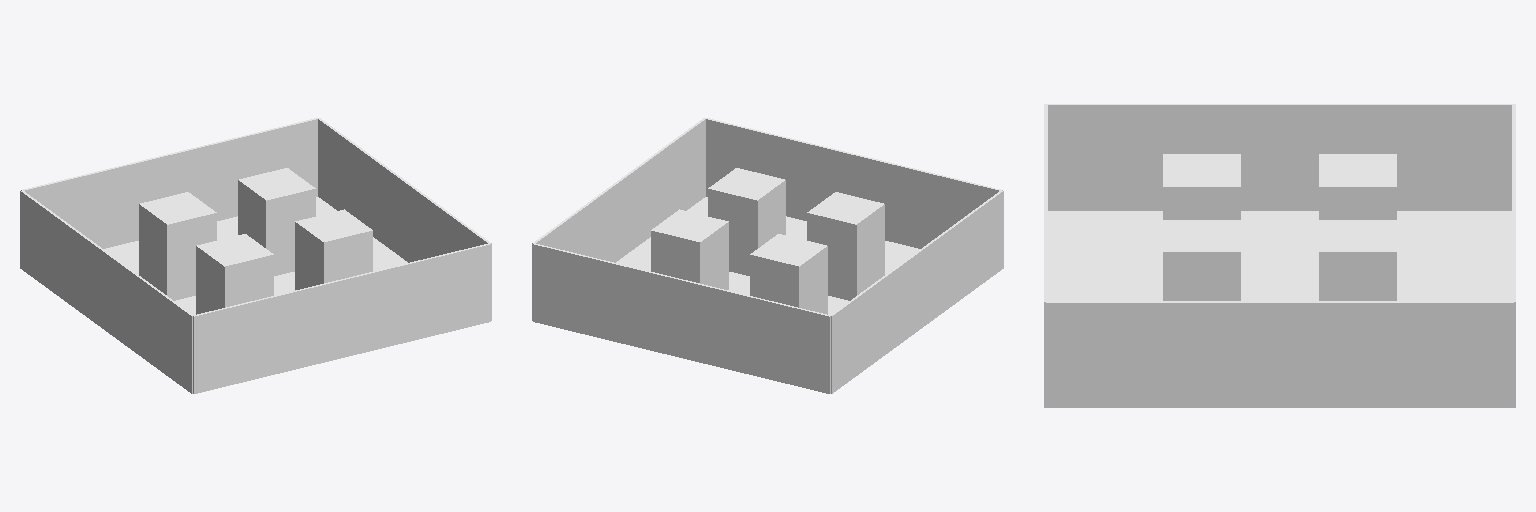
The robot description file, URDF, robot "room12x12":
<?xml version="1.0"?>
<robot name="room12x12">
  <link name="floor_link">
    <visual>
      <geometry>
        <mesh filename="floor.obj" scale="1 1 1"/>
      </geometry>
      <origin xyz="0 0 -0.005" rpy="0 0 0"/>
      <material name="white"/>
    </visual>
    <collision>
      <geometry>
        <box size="12 12 0.01"/>
      </geometry>
      <origin xyz="0 0 -0.005" rpy="0 0 0"/>
    </collision>
    <inertial>
      <mass value="3888"/>
      <inertia ixx="46656.0324" ixy="0" ixz="0" iyy="46656.0324" iyz="0" izz="93312"/>
      <origin xyz="0 0 -0.005" rpy="0 0 0"/>
    </inertial>
    <contact>
      <lateral_friction value="1"/>
    </contact>
  </link>
  <material name="blue">
    <color rgba="0 0 0.8 1"/>
  </material>
  <material name="black">
    <color rgba="0 0 0 1"/>
  </material>
  <material name="white">
    <color rgba="1 1 1 1"/>
  </material>
  <link name="north_link">
    <visual>
      <geometry>
        <mesh filename="wall12.obj" scale="1 1 1"/>
      </geometry>
      <origin xyz="0 0 1.5" rpy="0 0 0"/>
      <material name="white"/>
    </visual>
    <collision>
      <geometry>
        <box size="12 0.01 3"/>
      </geometry>
      <origin xyz="0 0 1.5" rpy="0 0 0"/>
    </collision>
    <inertial>
      <mass value="972"/>
      <inertia ixx="729.0081" ixy="0" ixz="0" iyy="12393" iyz="0" izz="11664.0081"/>
      <origin xyz="0 0 1.5" rpy="0 0 0"/>
    </inertial>
  </link>
  <joint name="north_joint" type="fixed">
    <parent link="floor_link"/>
    <child link="north_link"/>
    <origin xyz="0 6 0" rpy="0 0 0"/>
  </joint>
  <link name="east_link">
    <visual>
      <geometry>
        <mesh filename="wall12.obj" scale="1 1 1"/>
      </geometry>
      <origin xyz="0 0 1.5" rpy="0 0 1.570796327"/>
      <material name="white"/>
    </visual>
    <collision>
      <geometry>
        <box size="12 0.01 3"/>
      </geometry>
      <origin xyz="0 0 1.5" rpy="0 0 1.570796327"/>
    </collision>
    <inertial>
      <mass value="972"/>
      <inertia ixx="729.0081" ixy="0" ixz="0" iyy="12393" iyz="0" izz="11664.0081"/>
      <origin xyz="0 0 1.5" rpy="0 0 1.570796327"/>
    </inertial>
  </link>
  <joint name="east_joint" type="fixed">
    <parent link="floor_link"/>
    <child link="east_link"/>
    <origin xyz="6 0 0" rpy="0 0 0"/>
  </joint>
  <link name="south_link">
    <visual>
      <geometry>
        <mesh filename="wall12.obj" scale="1 1 1"/>
      </geometry>
      <origin xyz="0 0 1.5" rpy="0 0 0"/>
      <material name="white"/>
    </visual>
    <collision>
      <geometry>
        <box size="12 0.01 3"/>
      </geometry>
      <origin xyz="0 0 1.5" rpy="0 0 0"/>
    </collision>
    <inertial>
      <mass value="972"/>
      <inertia ixx="729.0081" ixy="0" ixz="0" iyy="12393" iyz="0" izz="11664.0081"/>
      <origin xyz="0 0 1.5" rpy="0 0 0"/>
    </inertial>
  </link>
  <joint name="south_joint" type="fixed">
    <parent link="floor_link"/>
    <child link="south_link"/>
    <origin xyz="0 -6 0" rpy="0 0 0"/>
  </joint>
  <link name="west_link">
    <visual>
      <geometry>
        <mesh filename="wall12.obj" scale="1 1 1"/>
      </geometry>
      <origin xyz="0 0 1.5" rpy="0 0 1.570796327"/>
      <material name="white"/>
    </visual>
    <collision>
      <geometry>
        <box size="12 0.01 3"/>
      </geometry>
      <origin xyz="0 0 1.5" rpy="0 0 1.570796327"/>
    </collision>
    <inertial>
      <mass value="972"/>
      <inertia ixx="729.0081" ixy="0" ixz="0" iyy="12393" iyz="0" izz="11664.0081"/>
      <origin xyz="0 0 1.5" rpy="0 0 1.570796327"/>
    </inertial>
  </link>
  <joint name="west_joint" type="fixed">
    <parent link="floor_link"/>
    <child link="west_link"/>
    <origin xyz="-6 0 0" rpy="0 0 0"/>
  </joint>
  <link name="ne_col_link">
    <visual>
      <geometry>
        <mesh filename="wall2.obj" scale="1 1 1"/>
      </geometry>
      <origin xyz="0 0 1.5" rpy="0 0 0"/>
      <material name="white"/>
    </visual>
    <collision>
      <geometry>
        <box size="2 2 3"/>
      </geometry>
      <origin xyz="0 0 1.5" rpy="0 0 0"/>
    </collision>
    <inertial>
      <mass value="32400"/>
      <inertia ixx="35100" ixy="0" ixz="0" iyy="35100" iyz="0" izz="21600"/>
      <origin xyz="0 0 1.5" rpy="0 0 0"/>
    </inertial>
  </link>
  <joint name="ne_col_joint" type="fixed">
    <parent link="floor_link"/>
    <child link="ne_col_link"/>
    <origin xyz="2 2 0" rpy="0 0 0"/>
  </joint>
  <link name="se_col_link">
    <visual>
      <geometry>
        <mesh filename="wall2.obj" scale="1 1 1"/>
      </geometry>
      <origin xyz="0 0 1.5" rpy="0 0 0"/>
      <material name="white"/>
    </visual>
    <collision>
      <geometry>
        <box size="2 2 3"/>
      </geometry>
      <origin xyz="0 0 1.5" rpy="0 0 0"/>
    </collision>
    <inertial>
      <mass value="32400"/>
      <inertia ixx="35100" ixy="0" ixz="0" iyy="35100" iyz="0" izz="21600"/>
      <origin xyz="0 0 1.5" rpy="0 0 0"/>
    </inertial>
  </link>
  <joint name="se_col_joint" type="fixed">
    <parent link="floor_link"/>
    <child link="se_col_link"/>
    <origin xyz="2 -2 0" rpy="0 0 0"/>
  </joint>
  <link name="sw_col_link">
    <visual>
      <geometry>
        <mesh filename="wall2.obj" scale="1 1 1"/>
      </geometry>
      <origin xyz="0 0 1.5" rpy="0 0 0"/>
      <material name="white"/>
    </visual>
    <collision>
      <geometry>
        <box size="2 2 3"/>
      </geometry>
      <origin xyz="0 0 1.5" rpy="0 0 0"/>
    </collision>
    <inertial>
      <mass value="32400"/>
      <inertia ixx="35100" ixy="0" ixz="0" iyy="35100" iyz="0" izz="21600"/>
      <origin xyz="0 0 1.5" rpy="0 0 0"/>
    </inertial>
  </link>
  <joint name="sw_col_joint" type="fixed">
    <parent link="floor_link"/>
    <child link="sw_col_link"/>
    <origin xyz="-2 -2 0" rpy="0 0 0"/>
  </joint>
  <link name="nw_col_link">
    <visual>
      <geometry>
        <mesh filename="wall2.obj" scale="1 1 1"/>
      </geometry>
      <origin xyz="0 0 1.5" rpy="0 0 0"/>
      <material name="white"/>
    </visual>
    <collision>
      <geometry>
        <box size="2 2 3"/>
      </geometry>
      <origin xyz="0 0 1.5" rpy="0 0 0"/>
    </collision>
    <inertial>
      <mass value="32400"/>
      <inertia ixx="35100" ixy="0" ixz="0" iyy="35100" iyz="0" izz="21600"/>
      <origin xyz="0 0 1.5" rpy="0 0 0"/>
    </inertial>
  </link>
  <joint name="nw_col_joint" type="fixed">
    <parent link="floor_link"/>
    <child link="nw_col_link"/>
    <origin xyz="-2 2 0" rpy="0 0 0"/>
  </joint>
</robot>

--- Facts derived from the render (not from the file) ---
3 views of the same robot in one strip: view 1: azimuth 30°, elevation 25°; view 2: azimuth 150°, elevation 25°; view 3: azimuth 270°, elevation 25° (orthographic).
Model room12x12 with 9 links and 8 joints (8 fixed), rooted at floor_link, posed every joint at zero.
Visible links, largest first — view 1: south_link, north_link, west_link, east_link, nw_col_link, ne_col_link, se_col_link, sw_col_link, floor_link; view 2: north_link, south_link, west_link, east_link, sw_col_link, se_col_link, ne_col_link, nw_col_link, floor_link; view 3: east_link, west_link, floor_link, ne_col_link, se_col_link, sw_col_link, nw_col_link, north_link, south_link.
Link boxes in pixels (bbox=[...]): south_link: bbox=[193, 244, 490, 393]; north_link: bbox=[21, 118, 318, 248]; west_link: bbox=[20, 190, 192, 393]; east_link: bbox=[318, 118, 491, 320]; nw_col_link: bbox=[139, 192, 216, 300]; ne_col_link: bbox=[238, 168, 315, 275]; se_col_link: bbox=[295, 209, 372, 289]; sw_col_link: bbox=[196, 234, 273, 314]; floor_link: bbox=[104, 197, 407, 314]; north_link: bbox=[533, 243, 830, 393]; south_link: bbox=[706, 118, 1002, 248]; west_link: bbox=[831, 190, 1003, 393]; east_link: bbox=[532, 118, 705, 320]; sw_col_link: bbox=[807, 192, 884, 300]; se_col_link: bbox=[708, 168, 785, 275]; ne_col_link: bbox=[651, 209, 728, 289]; nw_col_link: bbox=[750, 234, 827, 314]; floor_link: bbox=[616, 197, 919, 314]; east_link: bbox=[1046, 301, 1513, 407]; west_link: bbox=[1048, 104, 1511, 210]; floor_link: bbox=[1048, 211, 1511, 300]; ne_col_link: bbox=[1319, 220, 1396, 300]; se_col_link: bbox=[1163, 220, 1240, 300]; sw_col_link: bbox=[1163, 154, 1240, 219]; nw_col_link: bbox=[1319, 154, 1396, 219]; north_link: bbox=[1512, 104, 1515, 407]; south_link: bbox=[1044, 104, 1047, 407].
Size in the robot's own frame: 12.1 by 12.1 by 3.01 metres.
9 mesh visuals loaded from 3 distinct referenced files (3 OBJ).